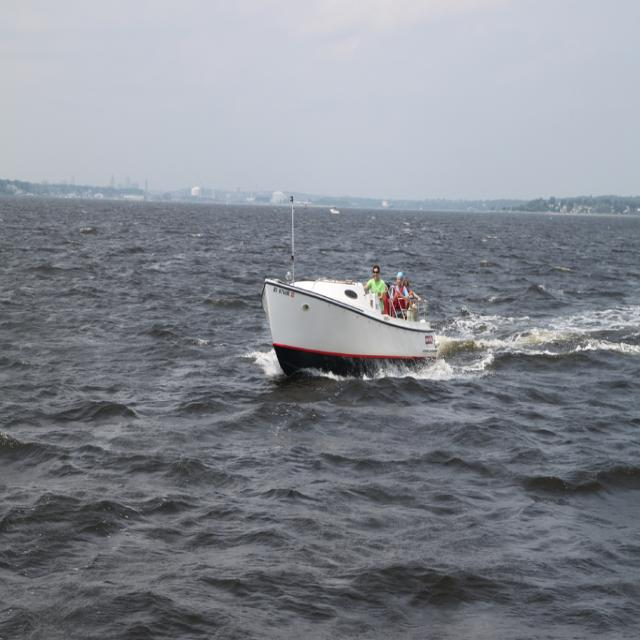Boat: (262, 241, 446, 376)
